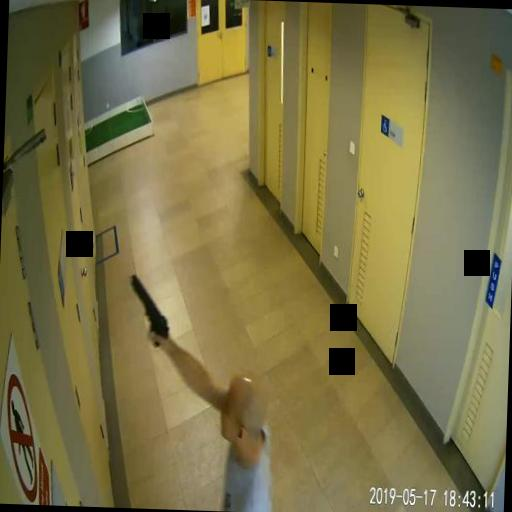Handgun: (126, 270, 168, 346)
